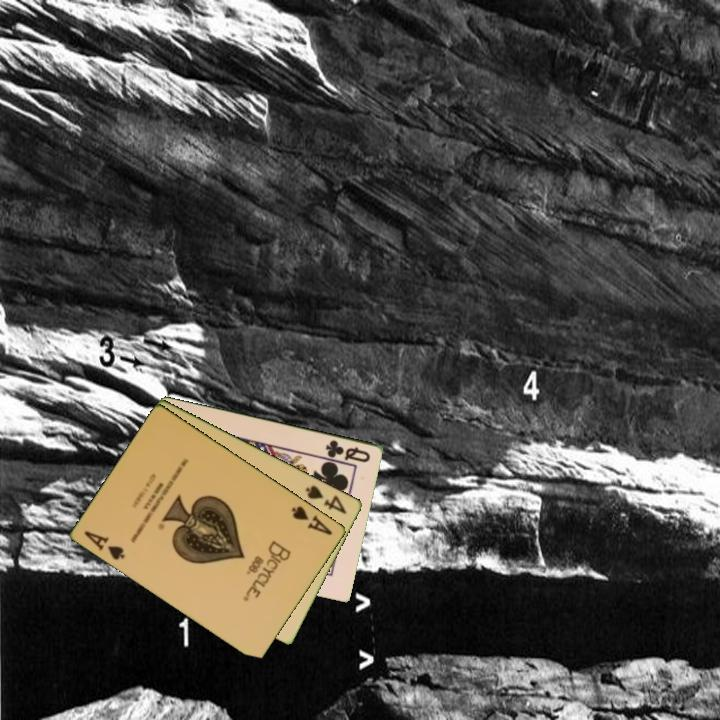4s: (302, 482, 350, 517)
As: (288, 502, 336, 538), (81, 527, 128, 563)
Qc: (322, 436, 373, 465)
